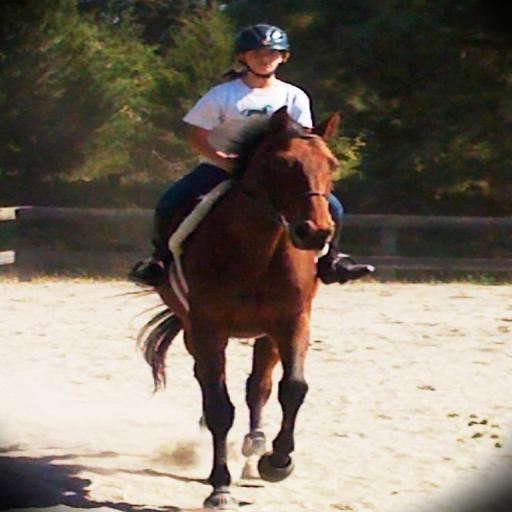horse: (108, 104, 346, 511)
